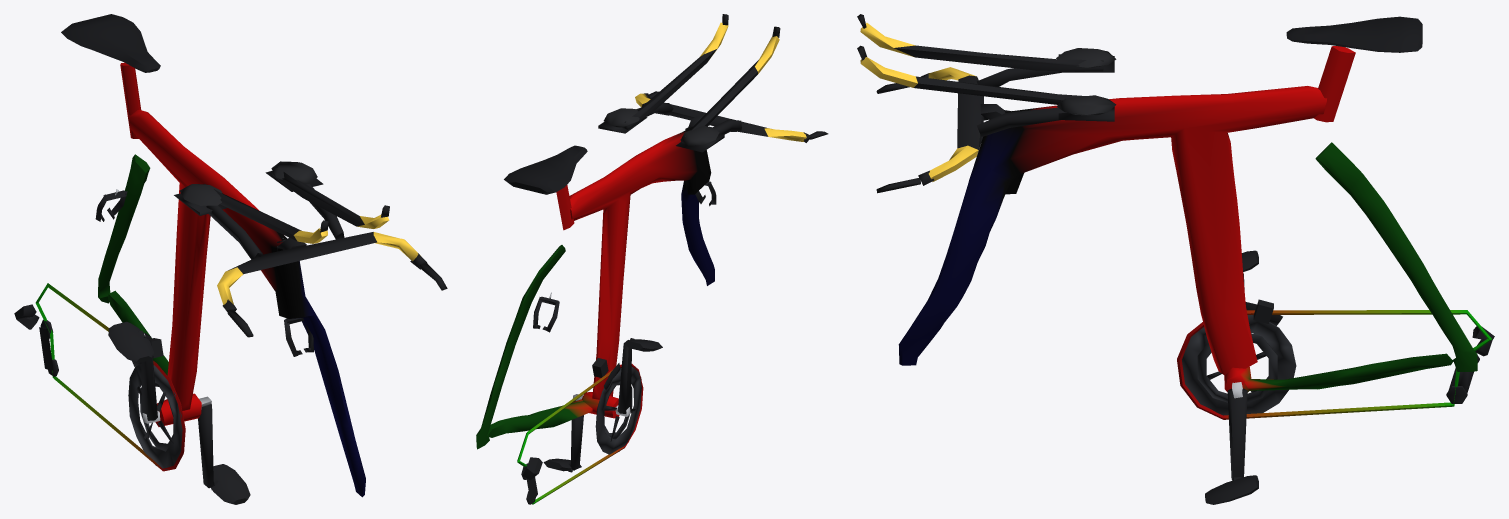
The model's file is lotus_lod1.glb.
The picture shows the model from 3 angles, left to right: view 1: azimuth 30°, elevation 25°; view 2: azimuth 150°, elevation 25°; view 3: azimuth 270°, elevation 25°; orthographic projection. The views are drawn at different scales.
Visible parts, largest first — view 1: frame, cockpit, crankset, saddle, pedal_R, opt_derailleur, pedal_L, opt_brakes_rim; view 2: frame, cockpit, crankset, saddle, opt_derailleur, opt_brakes_rim; view 3: frame, cockpit, crankset, saddle, opt_derailleur, pedal_L.
Part boxes in pixels (box(x1,y1,x2,y2)): frame: box(35, 62, 365, 497); cockpit: box(174, 161, 447, 337); crankset: box(128, 332, 213, 488); saddle: box(61, 14, 160, 72); pedal_R: box(108, 321, 153, 362); opt_derailleur: box(14, 304, 163, 376); pedal_L: box(211, 464, 250, 504); opt_brakes_rim: box(95, 189, 313, 356); frame: box(476, 126, 714, 504); cockpit: box(598, 14, 828, 152); crankset: box(570, 340, 641, 470); saddle: box(504, 145, 587, 194); opt_derailleur: box(521, 358, 620, 504); opt_brakes_rim: box(533, 181, 716, 332); frame: box(898, 46, 1492, 419); cockpit: box(857, 14, 1116, 193); crankset: box(1182, 273, 1296, 479); saddle: box(1286, 16, 1422, 52); opt_derailleur: box(1245, 299, 1494, 403); pedal_L: box(1205, 475, 1258, 504).
Bounding box in the file's own units: 0.4408 × 0.885 × 1.14.
